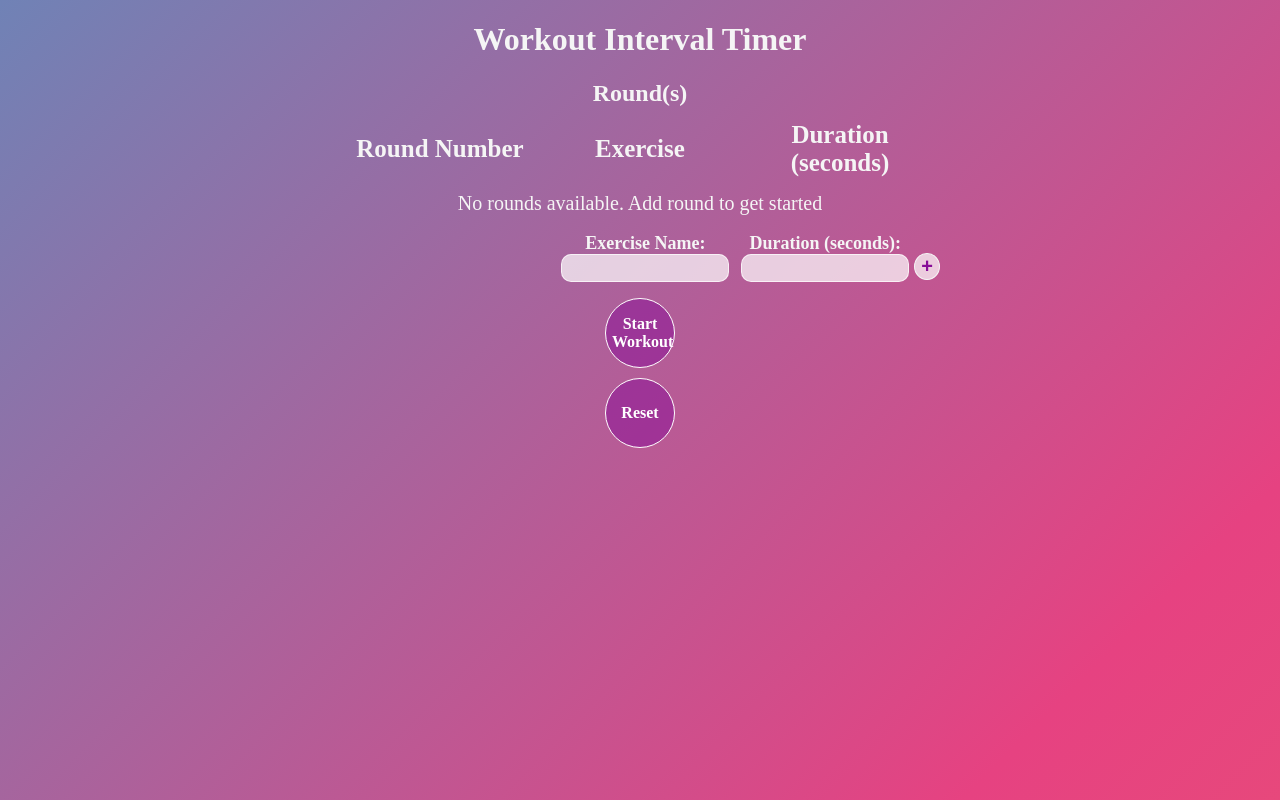
App › Add Round button adds a round
In the field with id "exercise_name": (645, 268) [561,254,729,282], type "Push-ups"
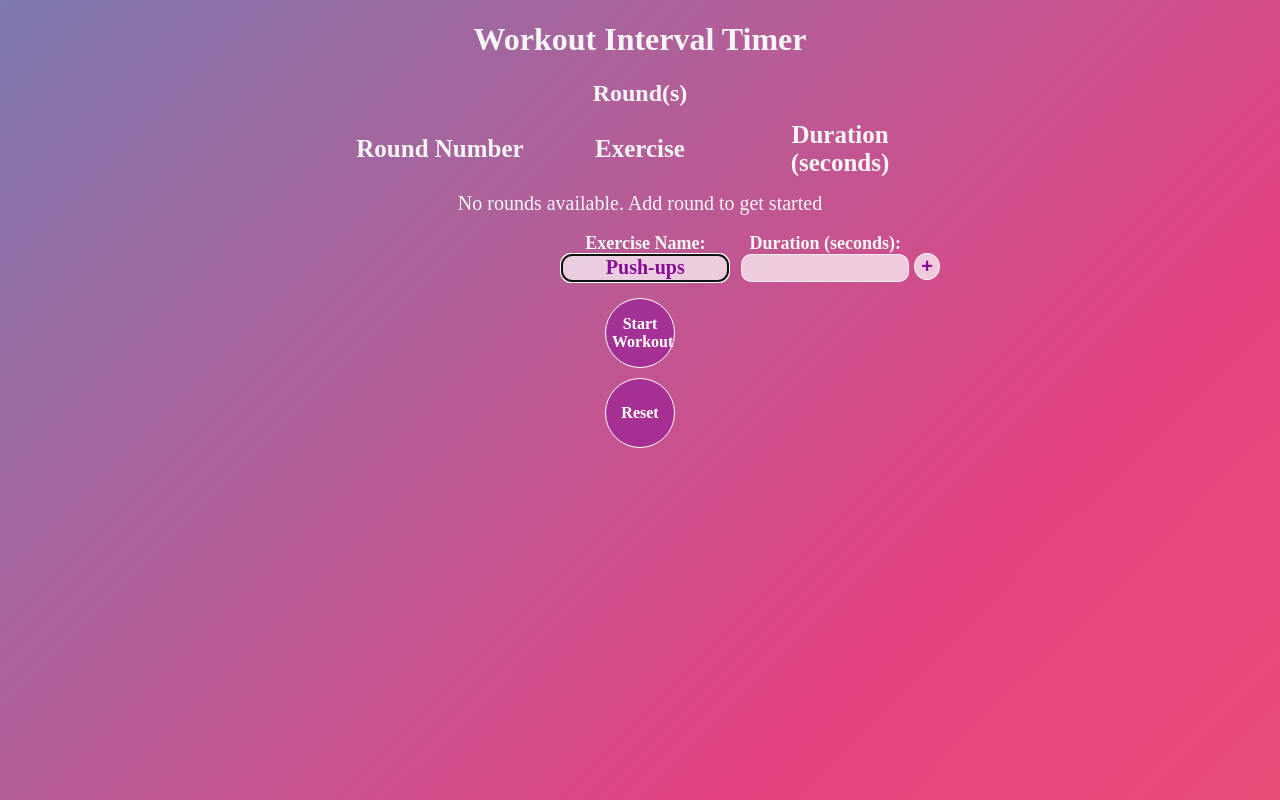
In the field with id "round_duration": (825, 268) [741,254,909,282], type "30"
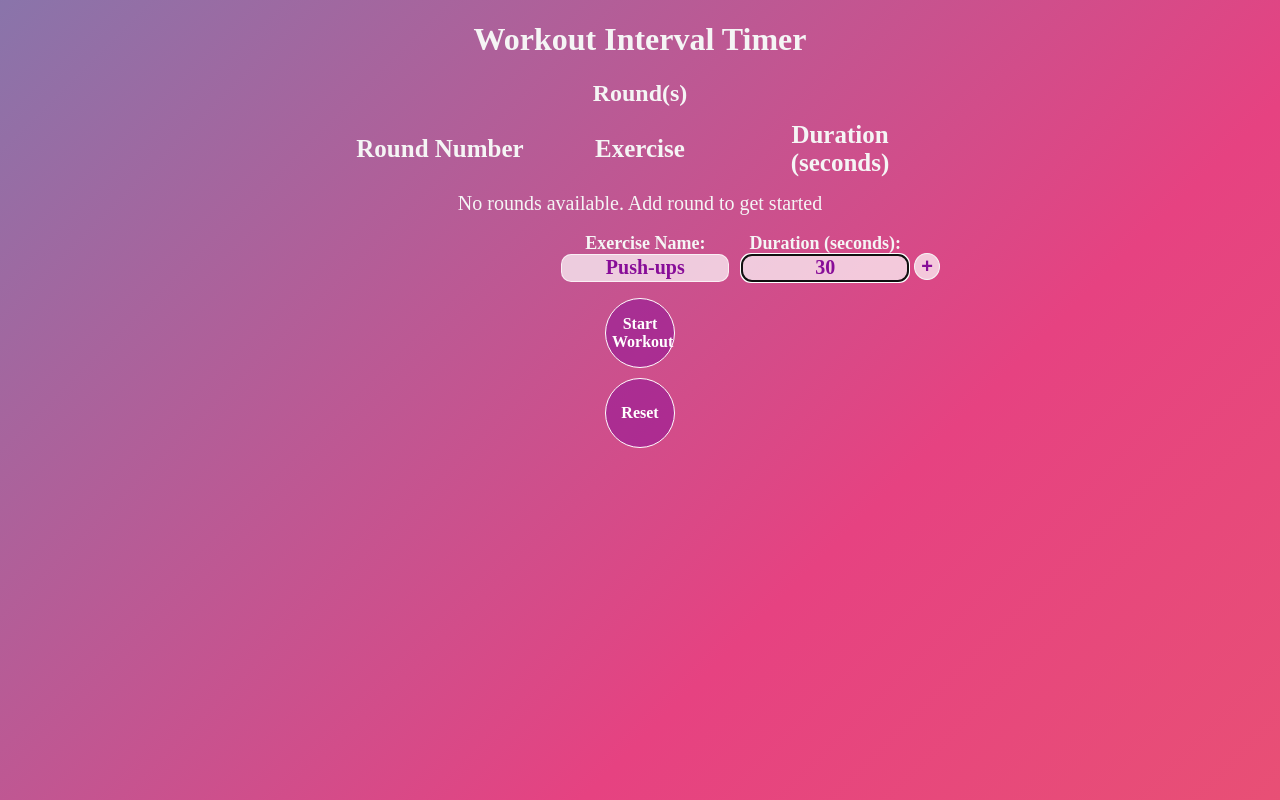
Click the button with id "add_round": (927, 267) [914,253,940,280]
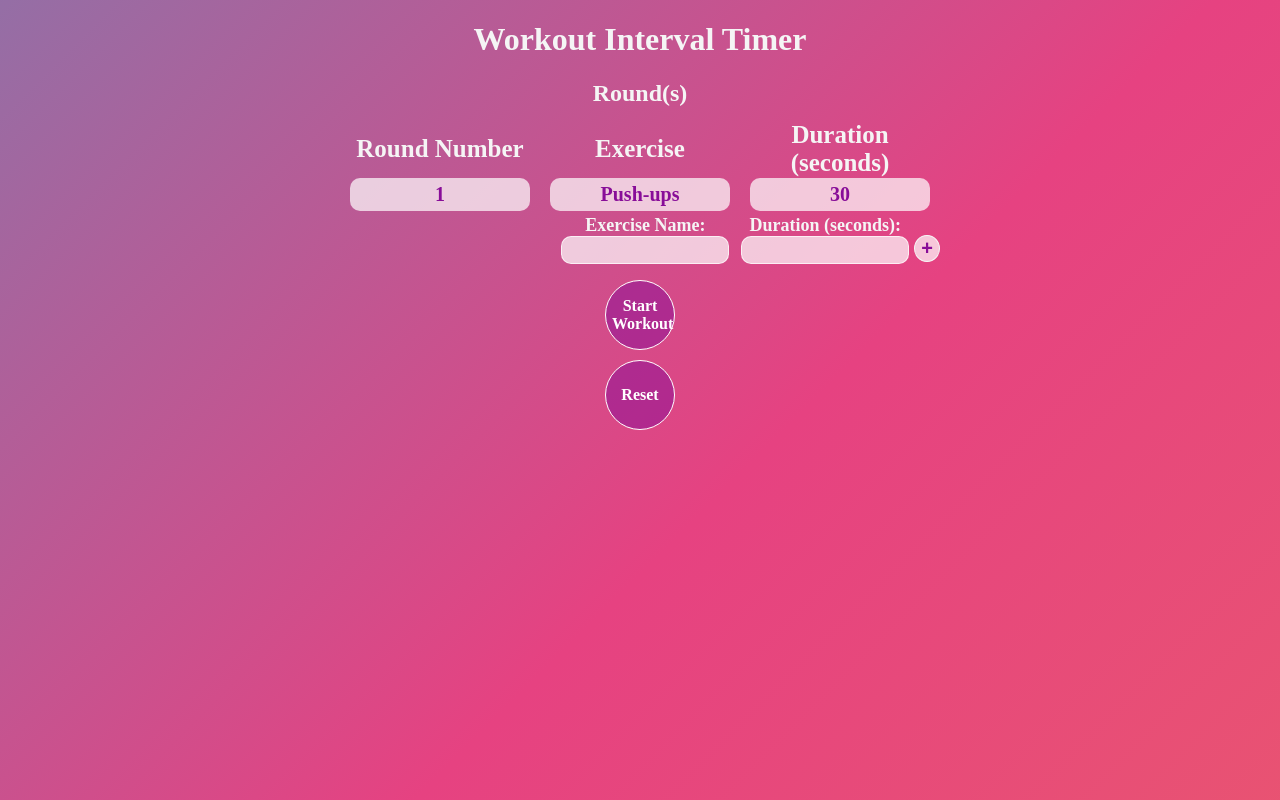
Check: the text "Push-ups" is shown, box [550,178,730,211]
Check: the text "30" is shown, box [750,178,930,211]
